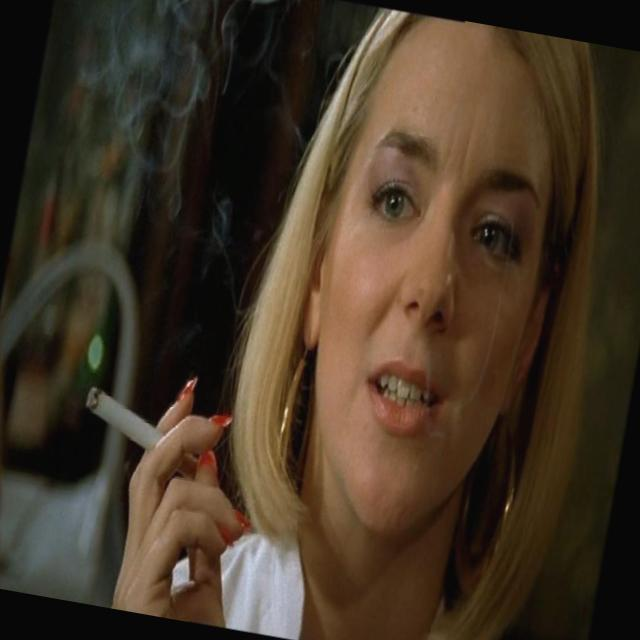cigarette: (56, 328, 223, 488)
